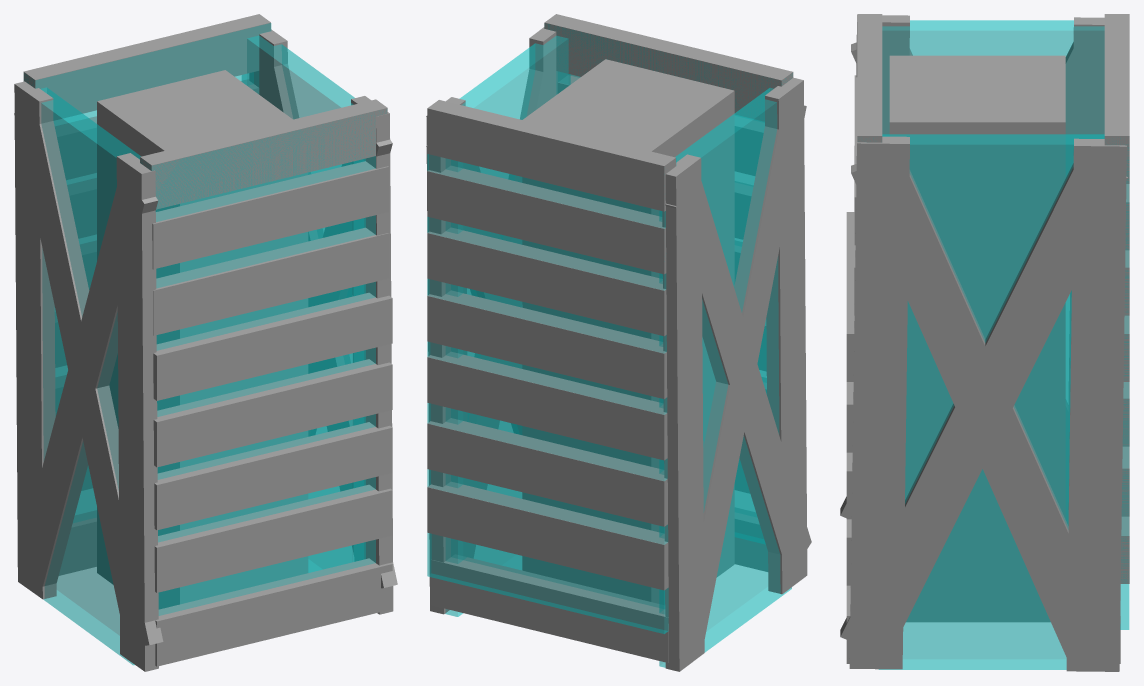
Rendered from new building.fbx.
3 views of the same model, side by side, from view 1: azimuth 30°, elevation 25°; view 2: azimuth 150°, elevation 25°; view 3: azimuth 270°, elevation 25° (orthographic). The views are drawn at different scales.
Visible parts, largest first — view 1: pCube59; view 2: pCube59; view 3: pCube59.
Part boxes in pixels (x1,y1,x2,y2): pCube59: [14, 14, 397, 671]; pCube59: [426, 14, 811, 671]; pCube59: [840, 14, 1129, 671].
Size of the model in its own units: 5.75 by 11.17 by 5.46.
